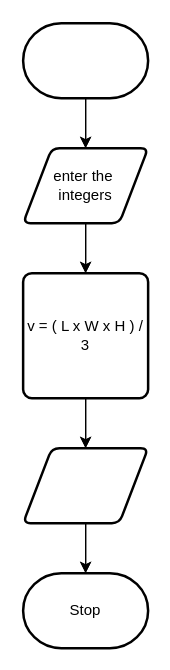
Some shapes in this 170 by 670 pixel diagram are drawn without their labels. Here are the shapes that lost their labels. From the top down, the centre of each, then its label:
At (85,60): "Start".
At (85,485): "show volume".
